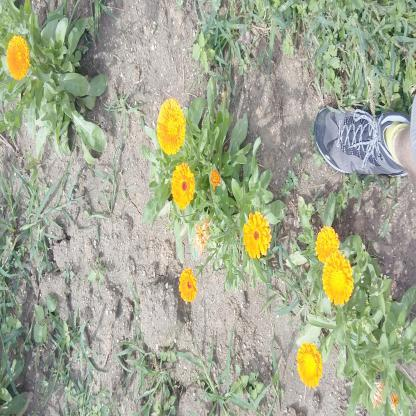marigold: (158, 100, 186, 155), (323, 255, 354, 304), (244, 212, 271, 258), (297, 344, 322, 386), (172, 164, 194, 210), (7, 37, 29, 79), (316, 227, 340, 264), (180, 269, 196, 300)
